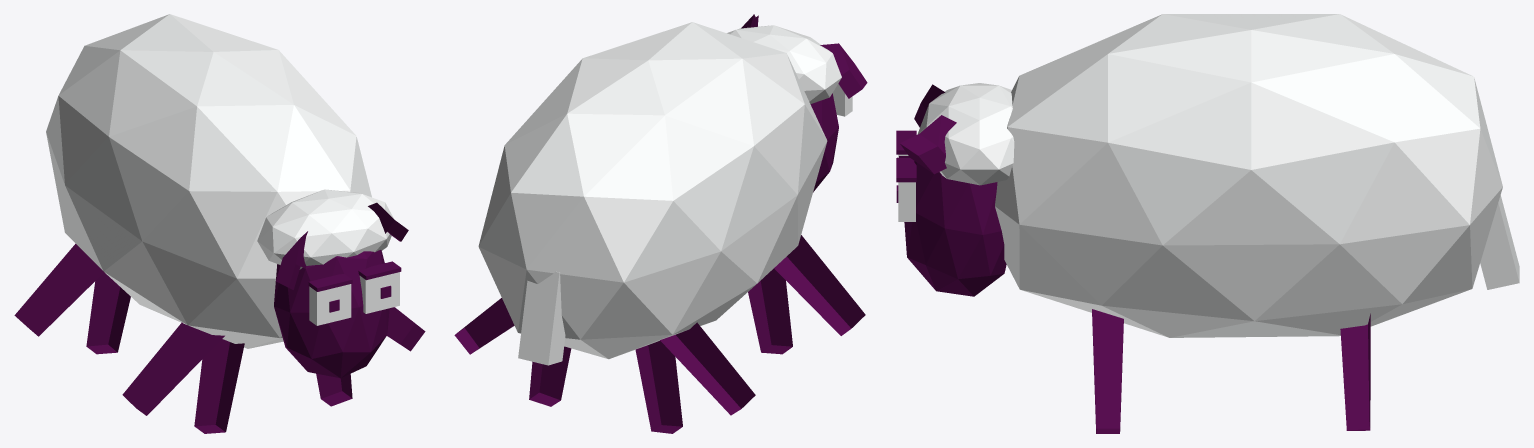
Rendered from sheep.glb.
3 renders of one model, left to right at view 1: azimuth 30°, elevation 25°; view 2: azimuth 150°, elevation 25°; view 3: azimuth 270°, elevation 25°, orthographic. The views are drawn at different scales.
Parts seen in each view (by area): view 1: sheep, legs_alarmed, legs_sleepy, eyes_alarmed; view 2: sheep, legs_alarmed, legs_sleepy, eyes_alarmed; view 3: sheep, legs_alarmed, eyes_alarmed.
Boxes of the visible parts, bbox=[...] form: sheep: bbox=[46, 14, 408, 378]; legs_alarmed: bbox=[14, 243, 425, 415]; legs_sleepy: bbox=[86, 272, 352, 433]; eyes_alarmed: bbox=[308, 261, 401, 325]; sheep: bbox=[478, 14, 867, 365]; legs_alarmed: bbox=[454, 235, 865, 415]; legs_sleepy: bbox=[529, 268, 792, 433]; eyes_alarmed: bbox=[832, 83, 852, 116]; sheep: bbox=[900, 14, 1519, 337]; legs_alarmed: bbox=[1092, 309, 1370, 430]; eyes_alarmed: bbox=[896, 130, 916, 221].
Size of the model in its own units: 0.6302 by 0.6535 by 1.01.
1 material, 1 textured.
